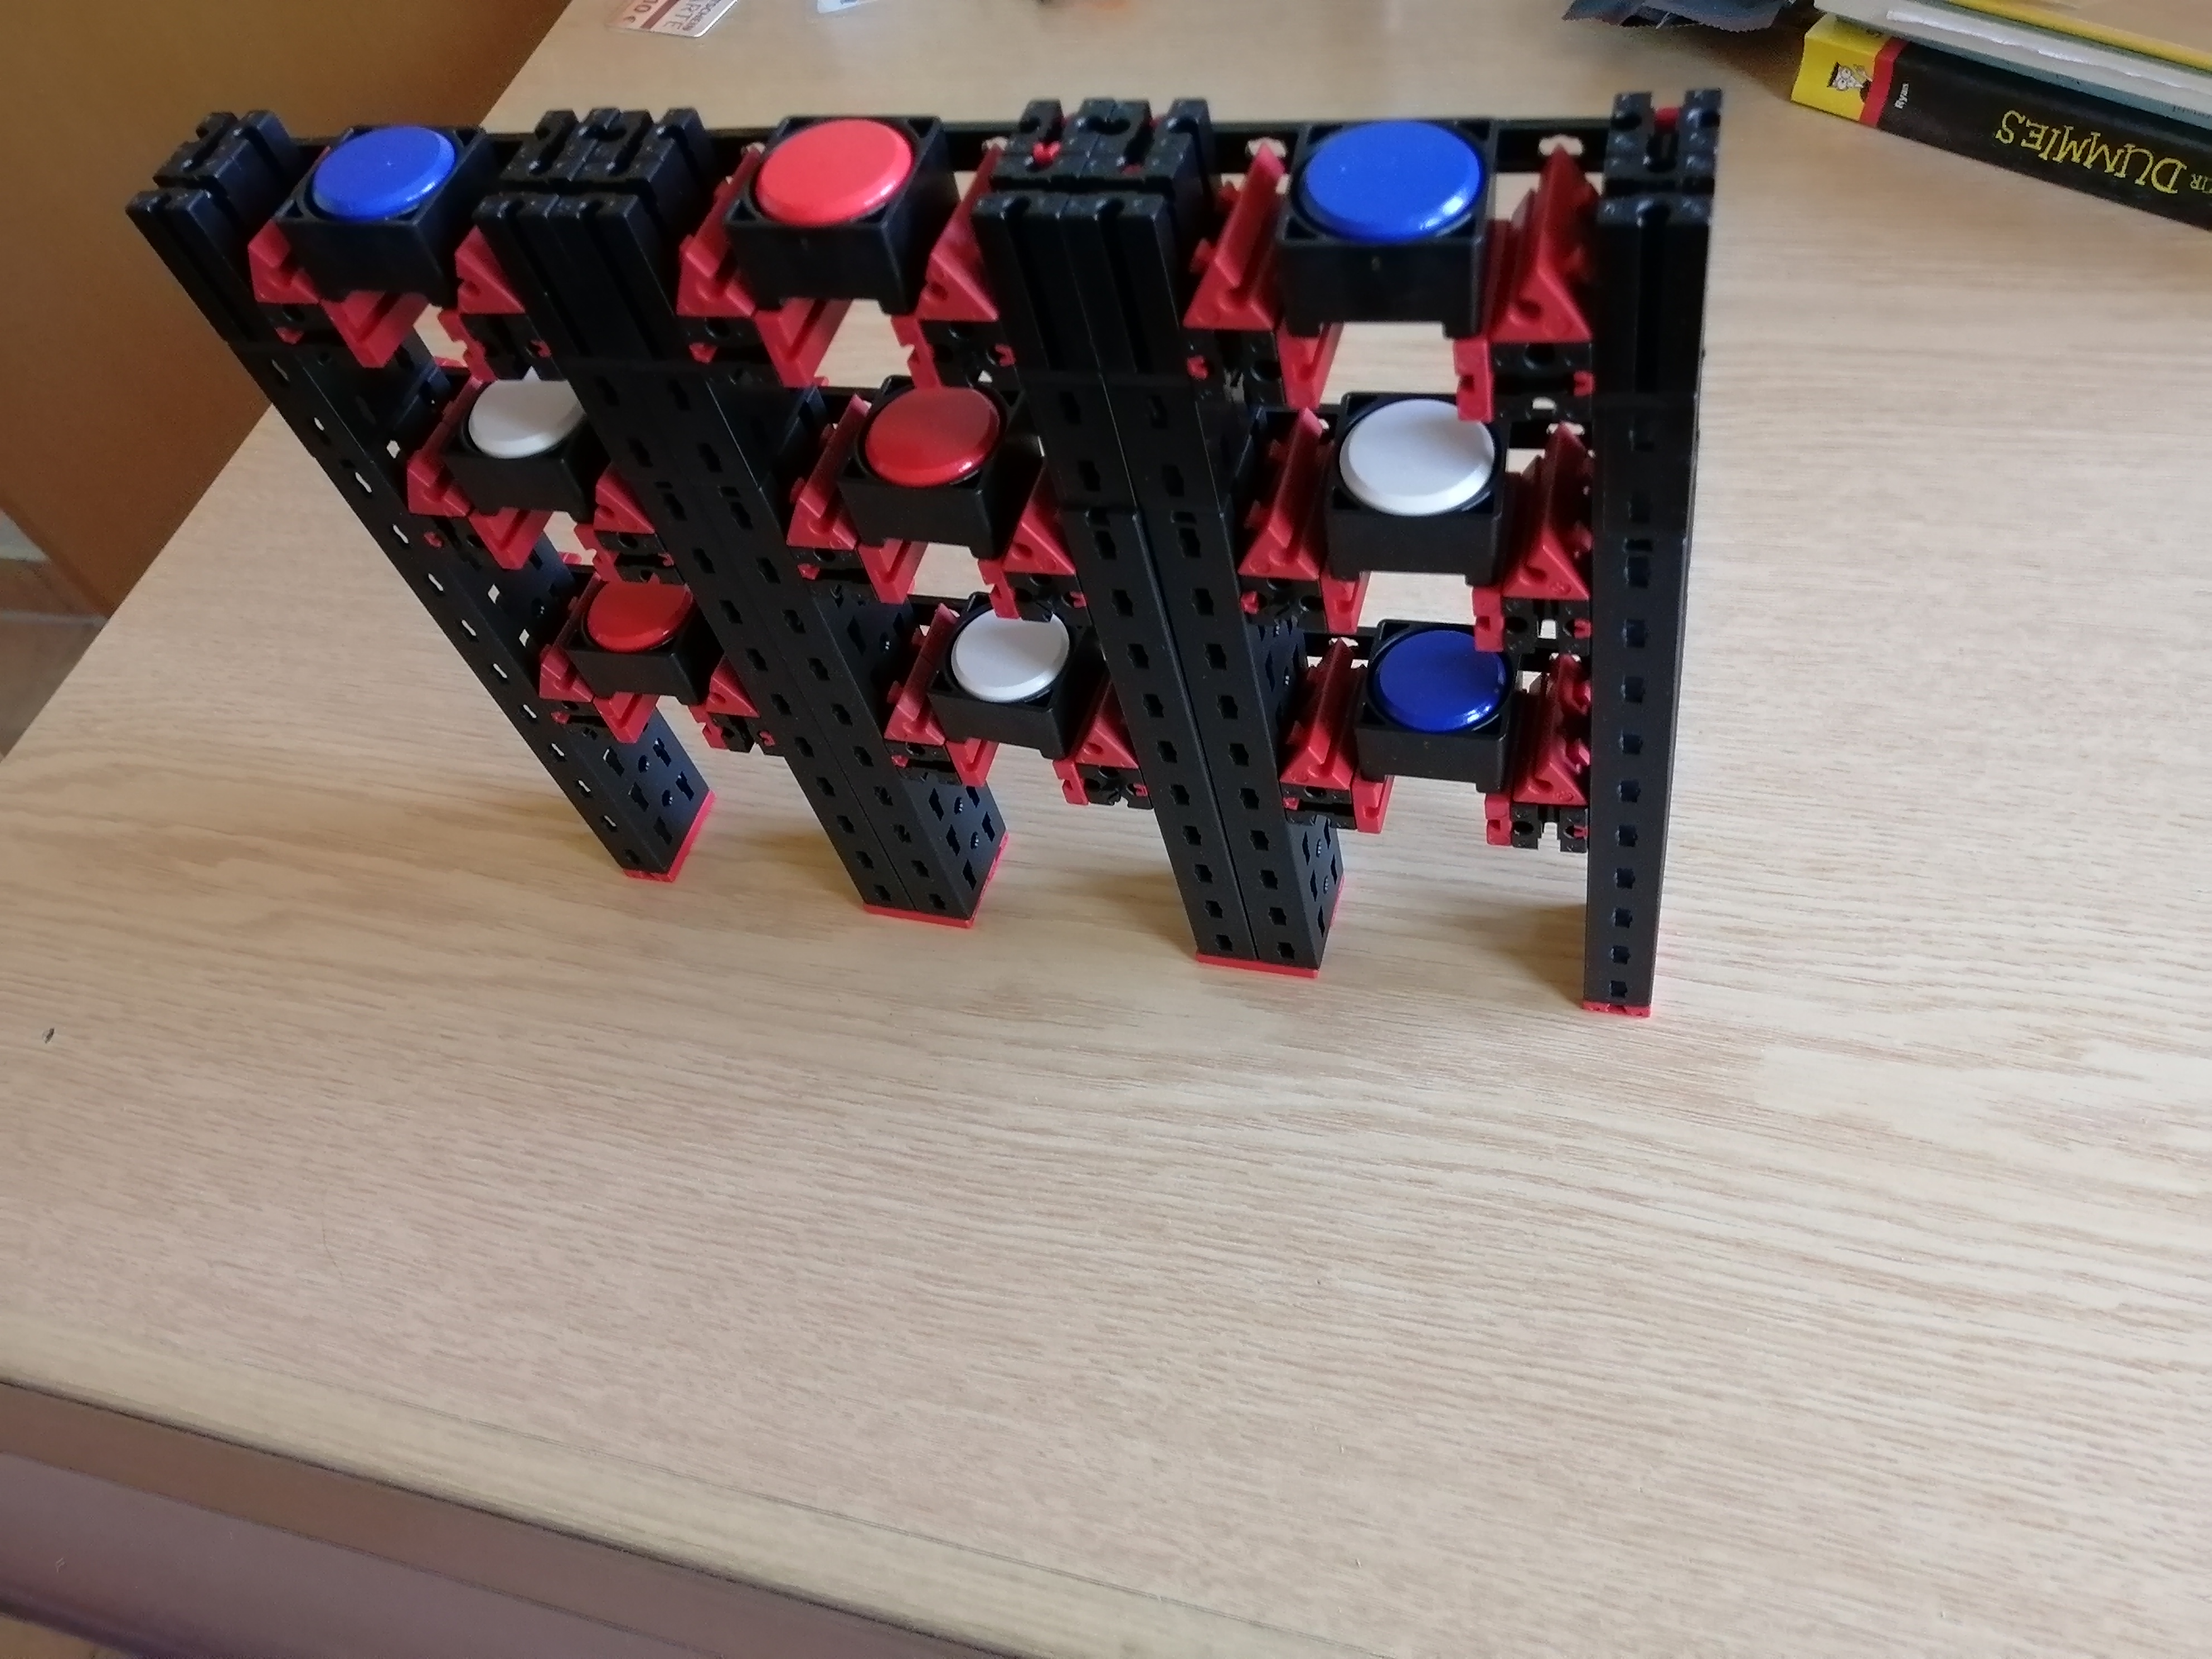Behaelter: (1284, 132, 1498, 333), (752, 115, 925, 298), (1331, 406, 1498, 572), (852, 394, 1017, 547), (307, 134, 451, 305), (1371, 634, 1503, 782), (944, 617, 1076, 746), (453, 396, 592, 507), (578, 592, 711, 694)
WerkStueck: (1313, 117, 1470, 235), (1339, 413, 1487, 518), (765, 125, 911, 218), (1378, 636, 1496, 739), (327, 125, 442, 220), (954, 619, 1073, 699), (878, 394, 991, 477), (582, 582, 686, 647), (479, 390, 571, 458)
